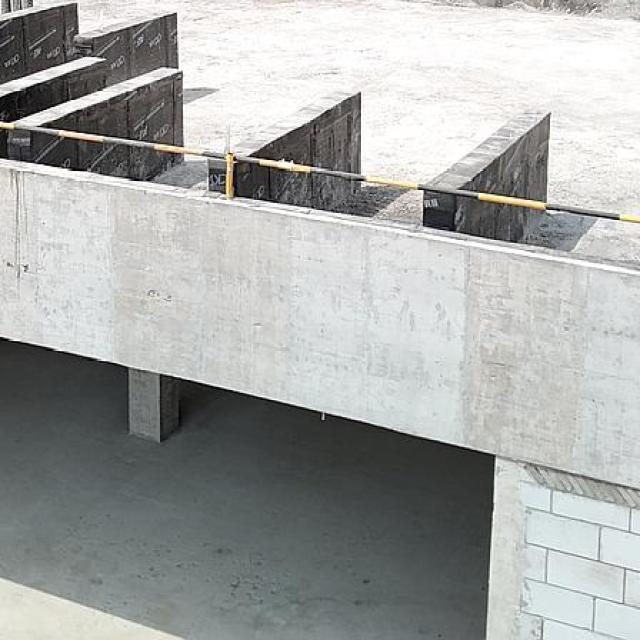edge_guardrail: (0, 121, 640, 225)
